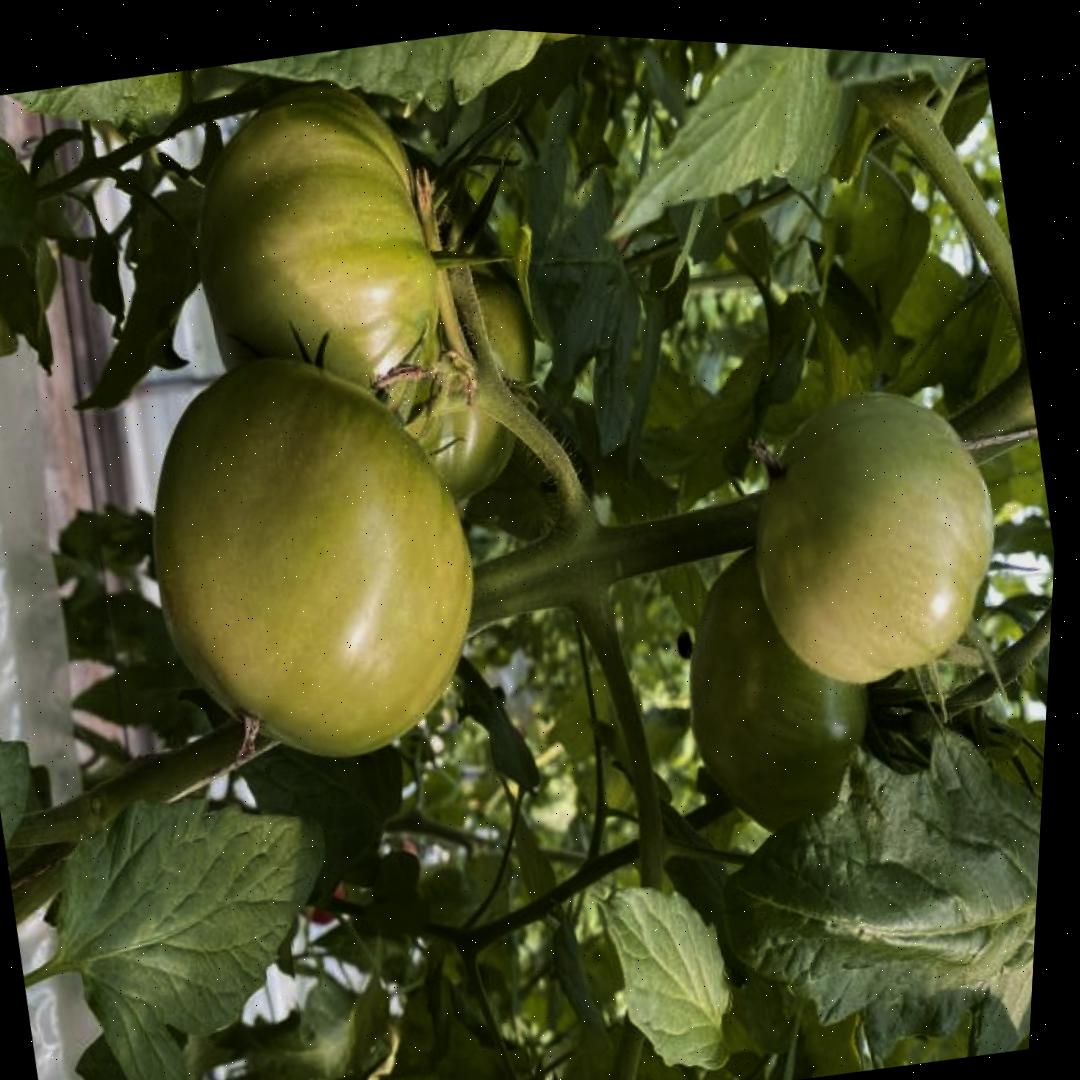mentah: (105, 314, 522, 803), (152, 48, 487, 512), (718, 359, 1031, 714)
